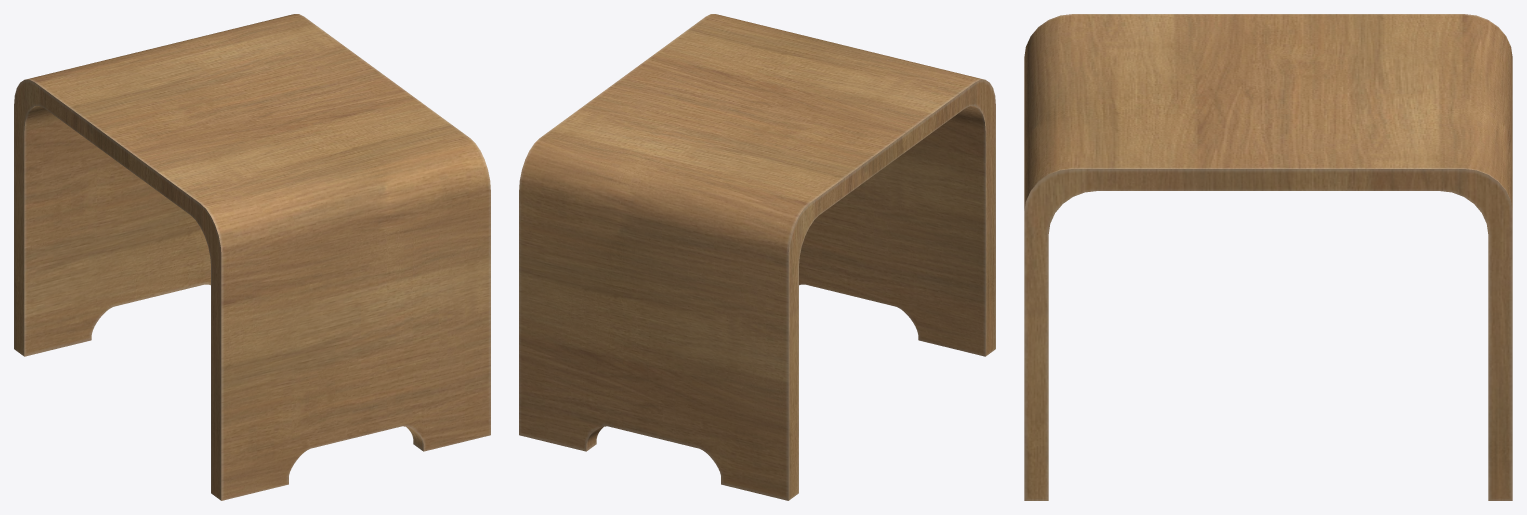
The model's file is Table.1.fbx.
3 renders of one model, left to right at view 1: azimuth 30°, elevation 25°; view 2: azimuth 150°, elevation 25°; view 3: azimuth 270°, elevation 25°, orthographic. The views are drawn at different scales.
Parts seen in each view (by area): view 1: Table.1; view 2: Table.1; view 3: Table.1.
Boxes of the visible parts, x1,y1,x2,y2 form: Table.1: (14, 14, 490, 500); Table.1: (519, 14, 995, 500); Table.1: (1024, 14, 1512, 500).
Bounding box in the file's own units: 150 × 150 × 200.
1 material, 1 textured.
